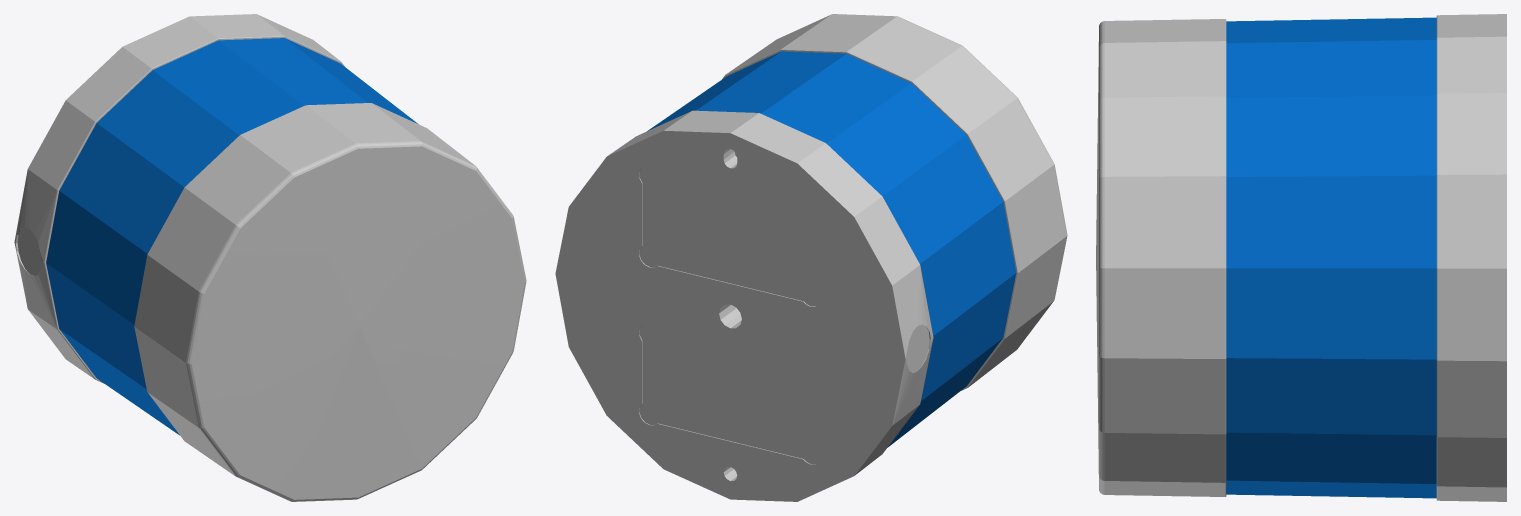
File: vlp32_top_vis.dae
3 views of the same model, side by side, from view 1: azimuth 30°, elevation 25°; view 2: azimuth 150°, elevation 25°; view 3: azimuth 270°, elevation 25° (orthographic). The views are drawn at different scales.
Parts seen in each view (by area): view 1: vlp32_top_vis; view 2: vlp32_top_vis; view 3: vlp32_top_vis.
Part boxes in pixels (x1,y1,x2,y2): vlp32_top_vis: (14,14,526,501); vlp32_top_vis: (555,14,1067,501); vlp32_top_vis: (1096,14,1506,501).
Size of the model in its own units: 0.1033 by 0.0869 by 0.1033.
